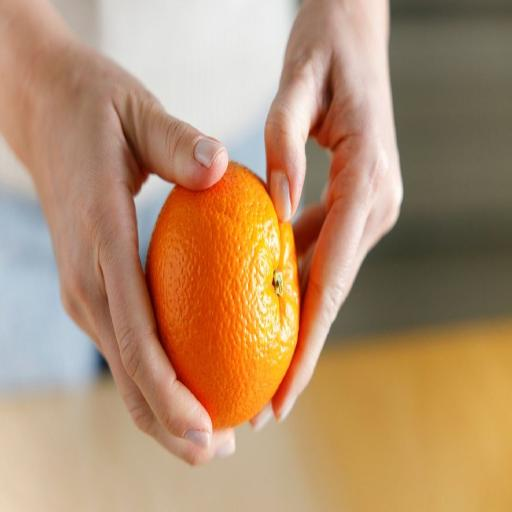orange: (146, 162, 299, 428)
